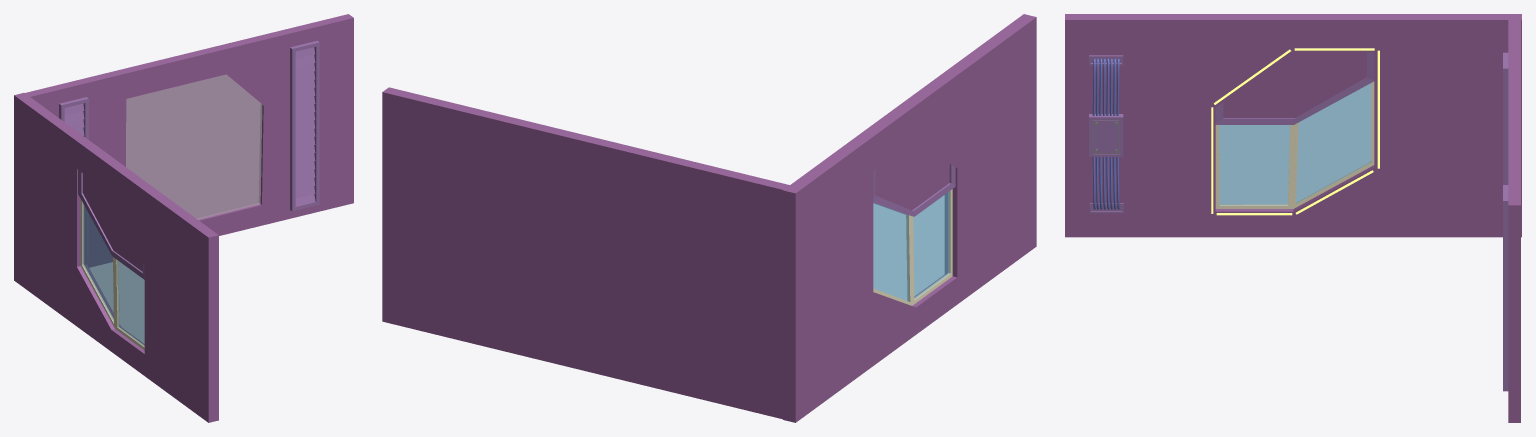
Rendered from walls_tier20.fbx.
3 views of the same model, side by side, from view 1: azimuth 30°, elevation 25°; view 2: azimuth 150°, elevation 25°; view 3: azimuth 270°, elevation 25° (orthographic). The views are drawn at different scales.
Parts seen in each view (by area): view 1: Cube.007, Cube, Plane, Cube.004, Cube.003, Cube.015, Cube.001, Cube.002; view 2: Cube.007, Cube, Cube.003, Cube.015, Cube.001; view 3: Cube, Cube.003, Cube.015, Cube.007, Cube.001, Cube.012, cable.001, cable.007, Cube.004, Cube.002.
Boxes of the visible parts, x1,y1,x2,y2 form: Cube.007: (25,14,353,267); Cube: (14,93,218,422); Plane: (126,74,262,219); Cube.004: (290,40,319,211); Cube.003: (82,202,144,346); Cube.015: (78,170,144,279); Cube.001: (80,199,144,350); Cube.002: (59,97,88,260); Cube.007: (382,87,789,419); Cube: (783,14,1036,422); Cube.003: (873,191,949,301); Cube.015: (873,140,955,216); Cube.001: (873,189,952,305); Cube: (1065,14,1521,237); Cube.003: (1219,83,1371,204); Cube.015: (1215,52,1374,124); Cube.007: (1508,20,1520,422); Cube.001: (1215,81,1374,208); Cube.012: (1089,114,1123,156); cable.001: (1092,58,1119,115); cable.007: (1092,157,1119,209); Cube.004: (1503,185,1508,391); Cube.002: (1503,52,1508,184).
Bounding box in the file's own units: 653 × 346 × 658.
